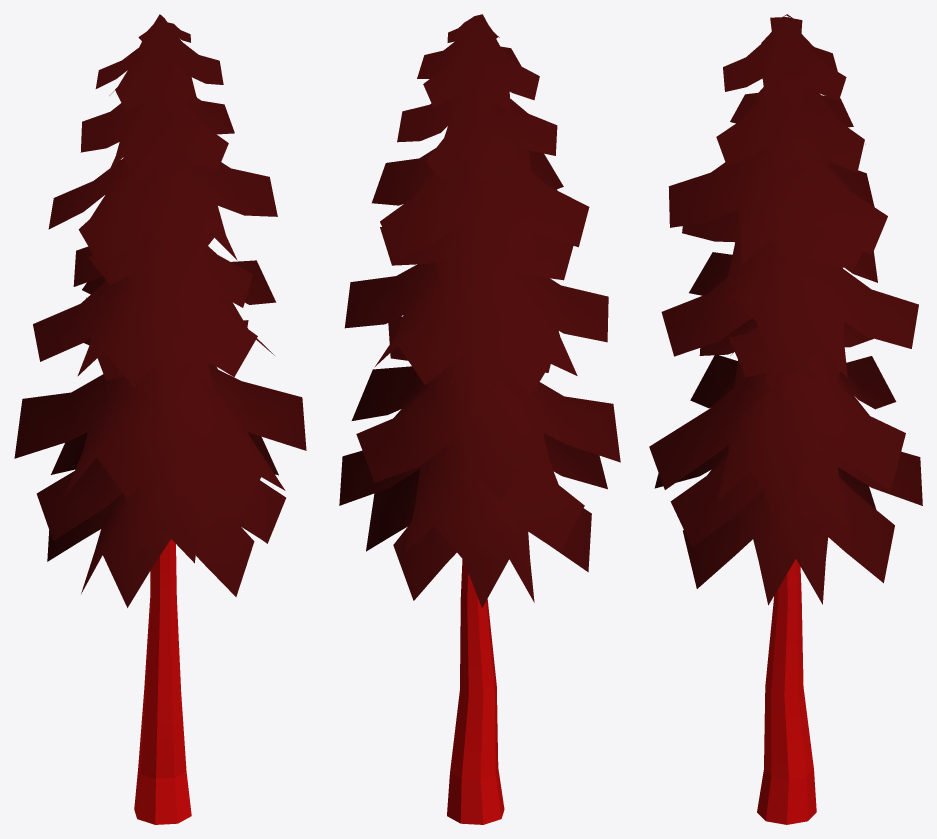
File: SM_Tree_Pine_Large_01.gltf
3 renders of one model, left to right at view 1: azimuth 30°, elevation 25°; view 2: azimuth 150°, elevation 25°; view 3: azimuth 270°, elevation 25°, orthographic.
Parts seen in each view (by area): view 1: SM_Tree_Pine_Large_01; view 2: SM_Tree_Pine_Large_01; view 3: SM_Tree_Pine_Large_01.
Boxes of the visible parts, x1,y1,x2,y2 form: SM_Tree_Pine_Large_01: (14, 14, 306, 824); SM_Tree_Pine_Large_01: (339, 14, 620, 824); SM_Tree_Pine_Large_01: (649, 14, 922, 824).
Size of the model in its own units: 2.44 by 7.53 by 2.34.
